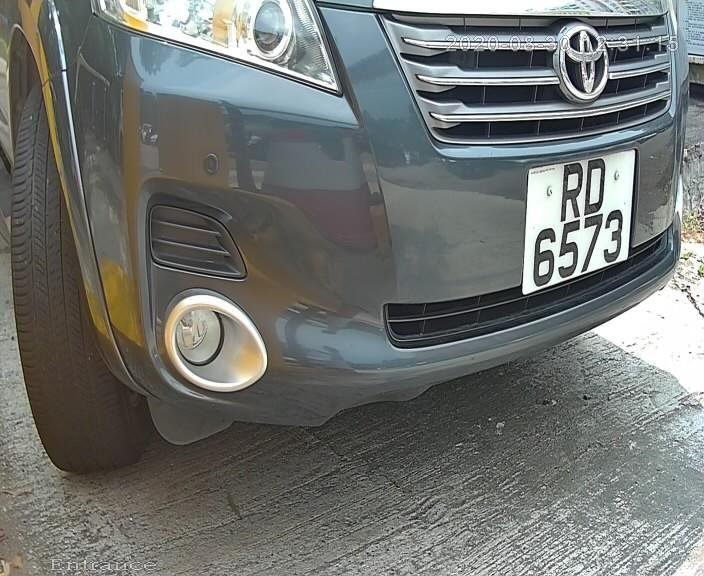License Plate: (522, 139, 638, 299)
